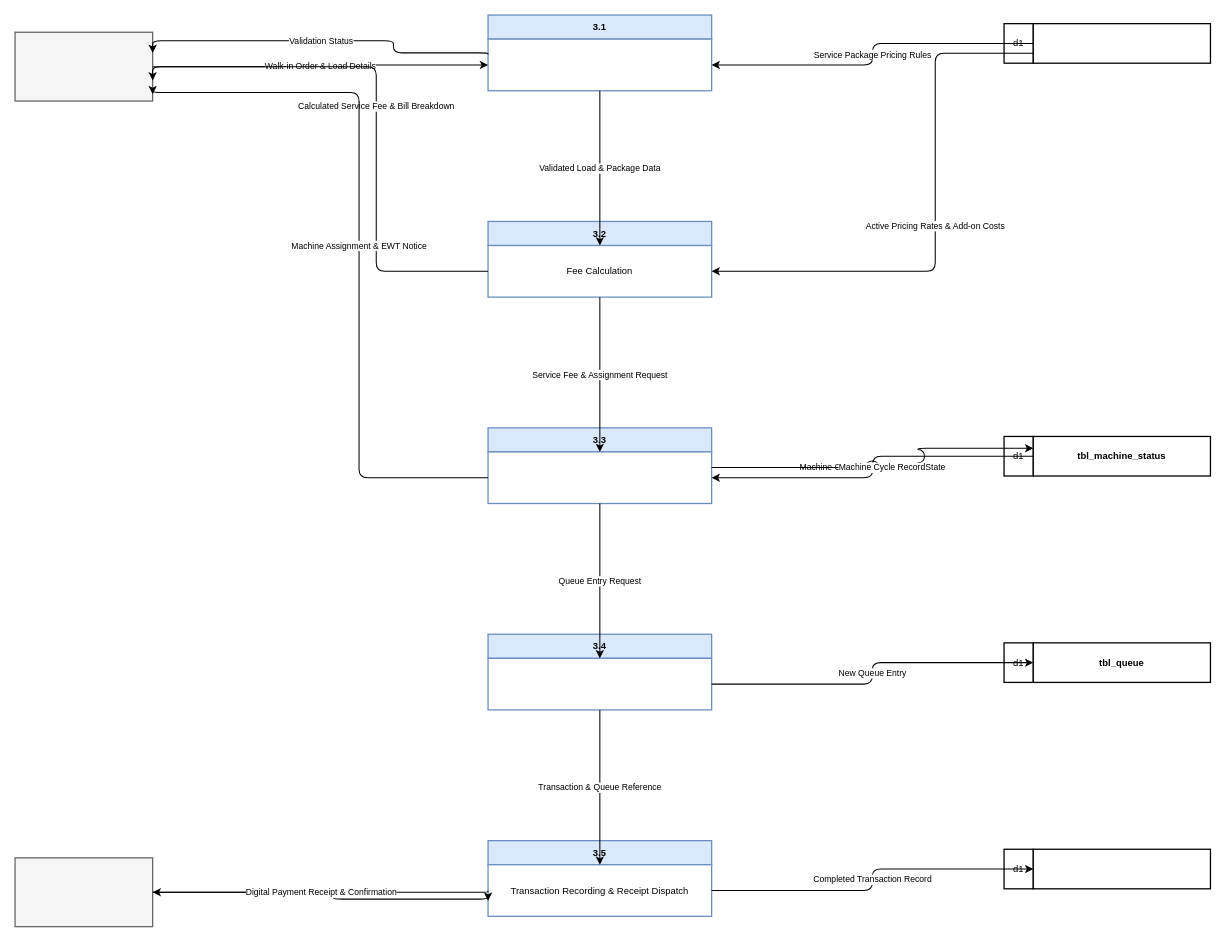
The diagram is 1226 pixels wide and 943 high, and some of its shapes have lost their labels. The centre of each missing label's shape, as x and y in pixels:
Customer: [83,892]
Machine Availability Check & Cycle Start: [599,477]
Queue Assignment & Record Entry: [599,683]
Service Package & Load Validation: [599,64]
Staff: [83,66]
tbl_system_settings: [1121,43]
tbl_transaction: [1121,868]
